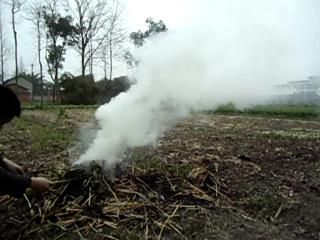yanwu: (83, 16, 276, 163)
